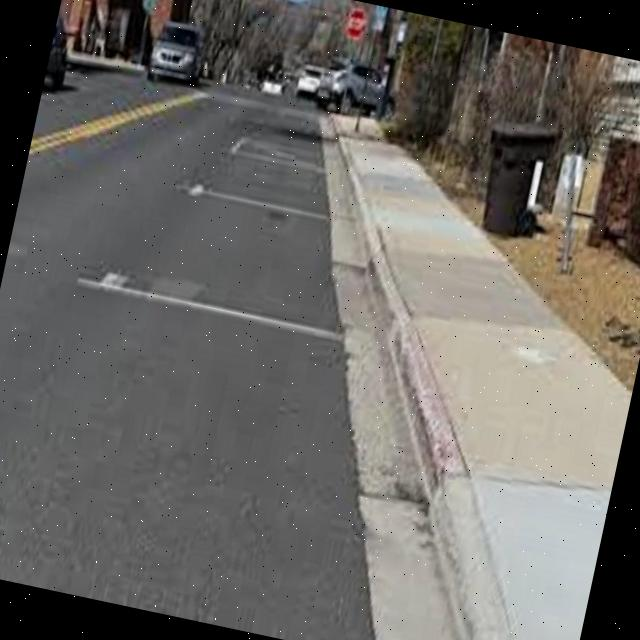curb: (353, 472, 575, 640), (316, 315, 471, 516), (339, 240, 433, 330), (321, 159, 395, 242)
